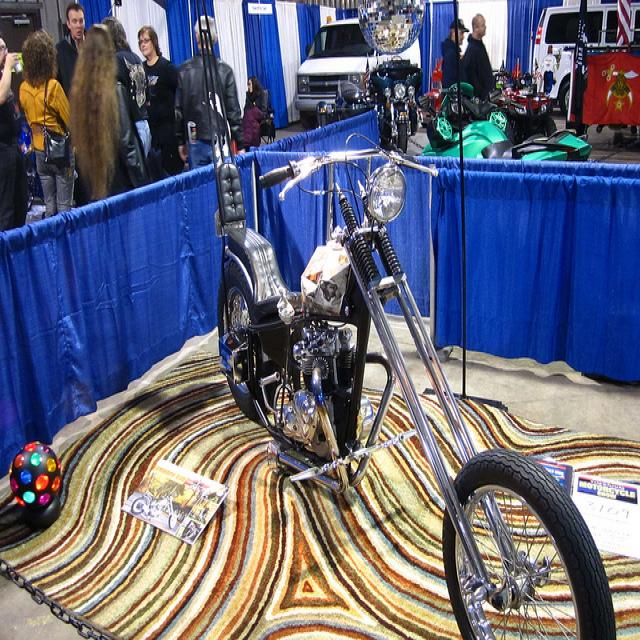motor: (193, 1, 617, 633), (423, 83, 596, 159)
